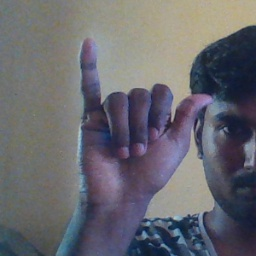J: (73, 36, 211, 206)
